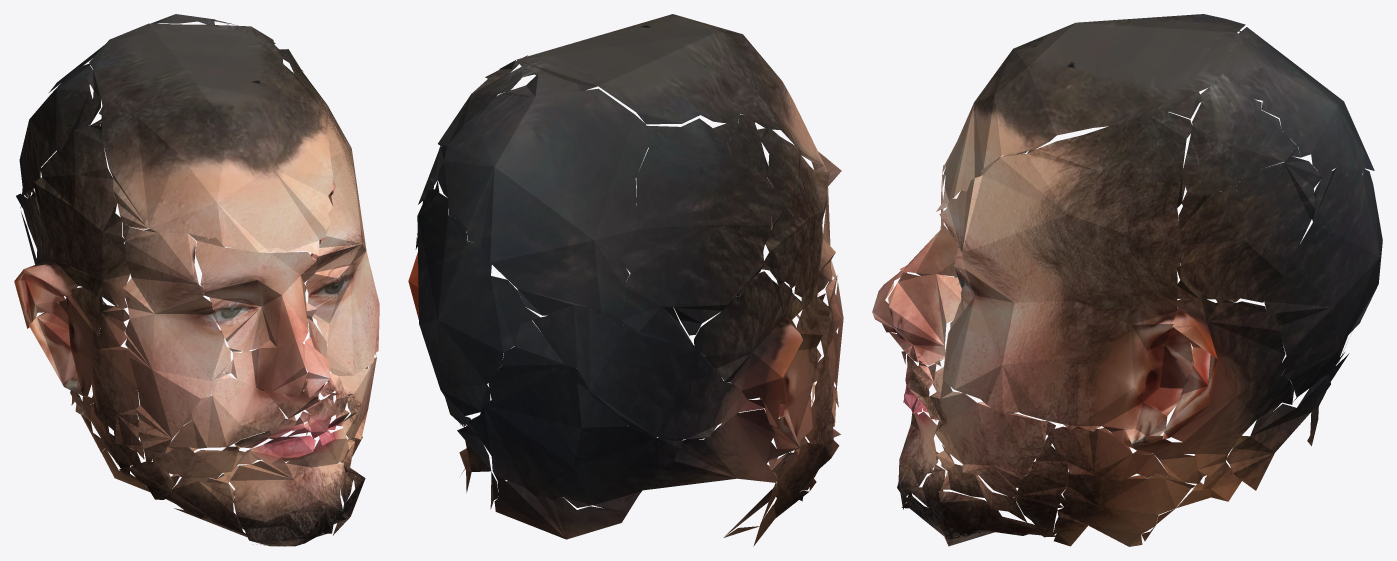
Rendered from head.glb.
The picture shows the model from 3 angles, left to right: view 1: azimuth 30°, elevation 25°; view 2: azimuth 150°, elevation 25°; view 3: azimuth 270°, elevation 25°; orthographic projection. The views are drawn at different scales.
Parts seen in each view (by area): view 1: pedro_head; view 2: pedro_head; view 3: pedro_head.
Boxes of the visible parts, box(x1,y1,x2,y2) form: pedro_head: box(14, 14, 379, 546); pedro_head: box(408, 14, 843, 546); pedro_head: box(872, 14, 1382, 546).
Bounding box in the file's own units: 0.201 × 0.2654 × 0.2515.
Materials: 1 (1 with a texture image).
